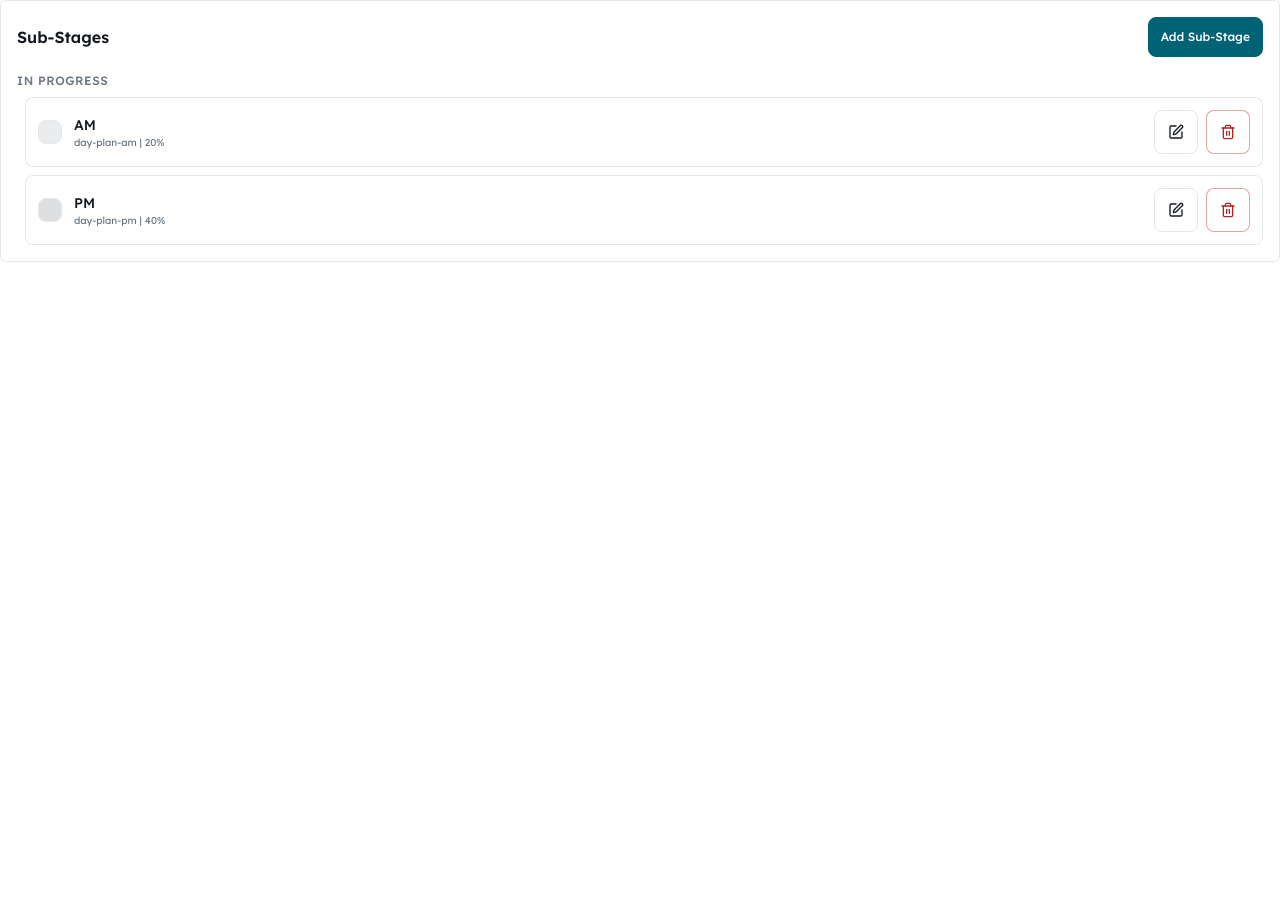
it: SubStageSection › opens an existing sub-stage at its stored shade
This screenshot has width=1280, height=900.
Click the button with test id "button-edit-sub-stage-11".
click(1176, 210)  # box [1154,188,1198,232]
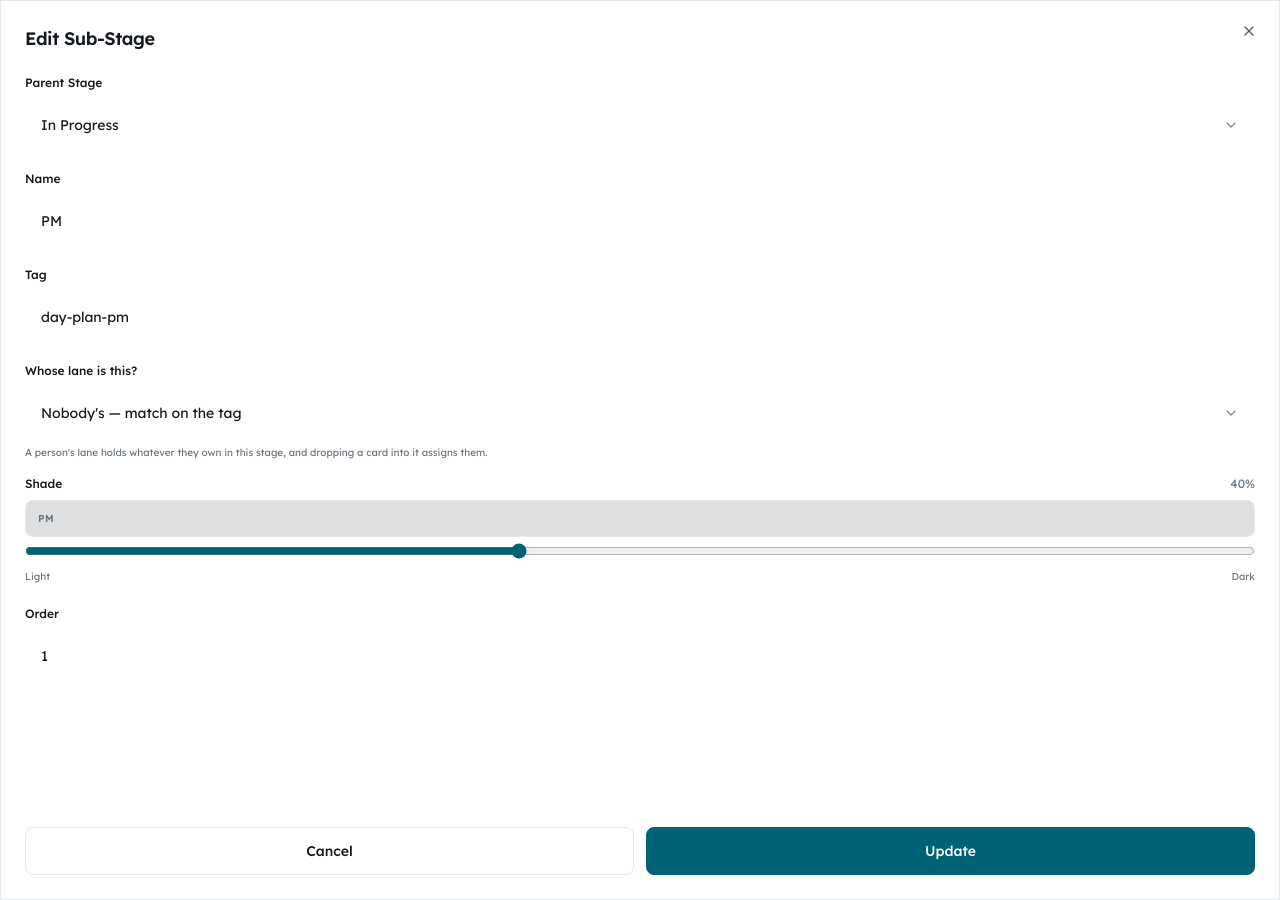
Expected: the slider holds "40", [25,547,1255,555]
Expected: the text with test id "shade-value" reads "40%", [1230,476,1255,492]
Expected: the heading "Edit Sub-Stage" is shown, [25,27,154,50]
